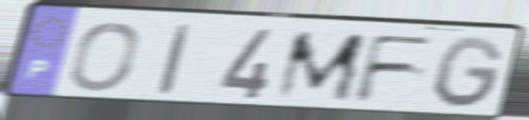4: (215, 25, 275, 101)
F: (351, 32, 441, 105)
G: (430, 34, 507, 112)
I: (154, 22, 195, 99)
M: (271, 31, 371, 104)
O: (65, 20, 144, 94)
